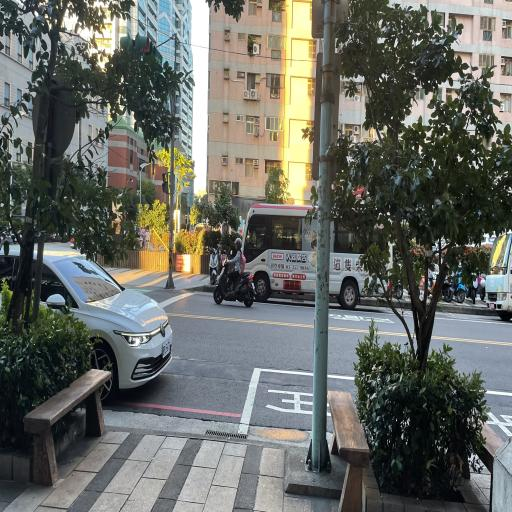MIU: (96, 344, 155, 426)
car: (2, 232, 174, 402)
redline: (128, 376, 247, 436)
